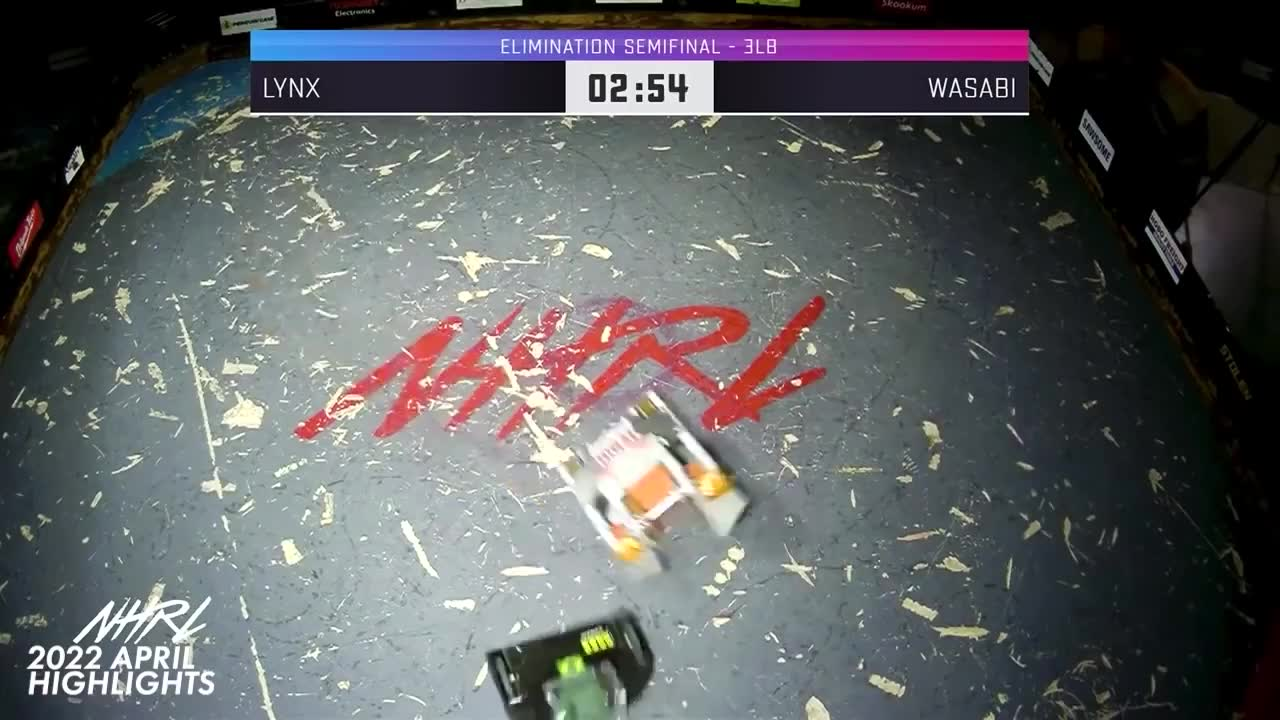combatbot: (570, 387, 748, 576), (484, 612, 654, 720)
